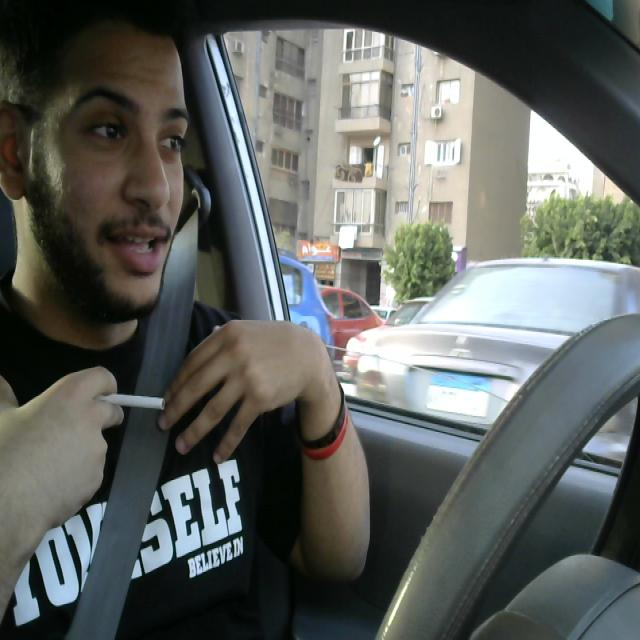smoking: (74, 378, 182, 427)
